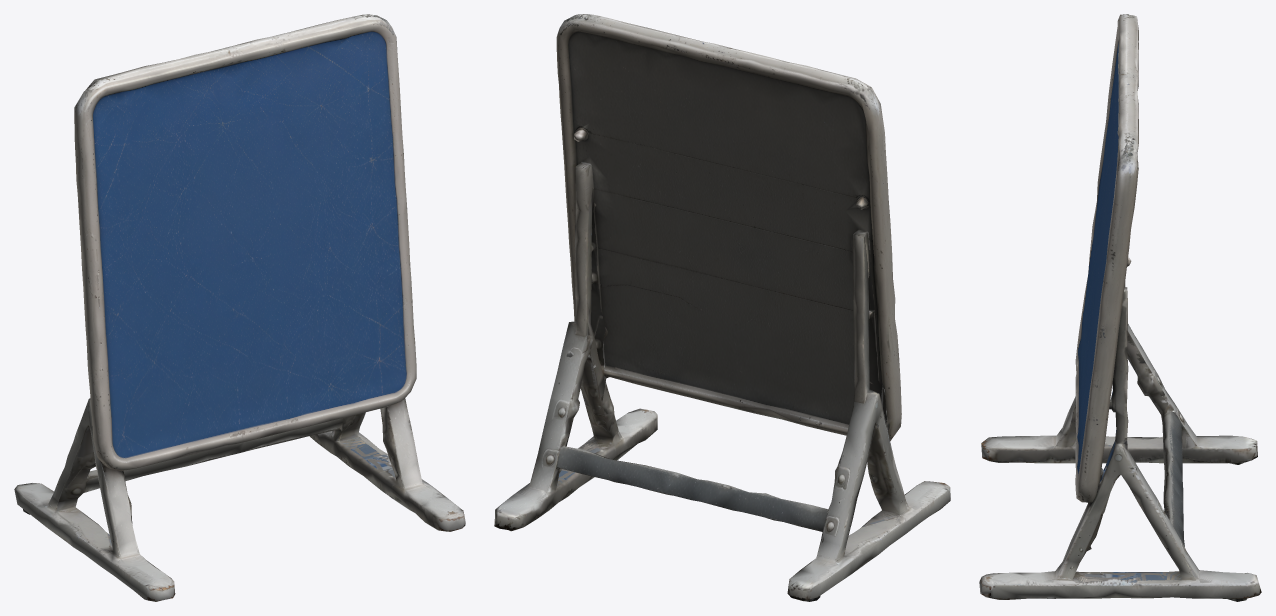
The model's file is VAR_PoolHall_SafetySign_Blank.fbx.
3 views of the same model, side by side, from view 1: azimuth 30°, elevation 25°; view 2: azimuth 150°, elevation 25°; view 3: azimuth 270°, elevation 25° (orthographic). The views are drawn at different scales.
Parts seen in each view (by area): view 1: texture_mapping; view 2: texture_mapping; view 3: texture_mapping.
Part boxes in pixels (x1,y1,x2,y2): texture_mapping: [14, 14, 465, 601]; texture_mapping: [494, 14, 950, 601]; texture_mapping: [979, 14, 1261, 601].
Size of the model in its own units: 0.7142 by 0.5658 by 1.
Materials: 1 (1 with a texture image).
